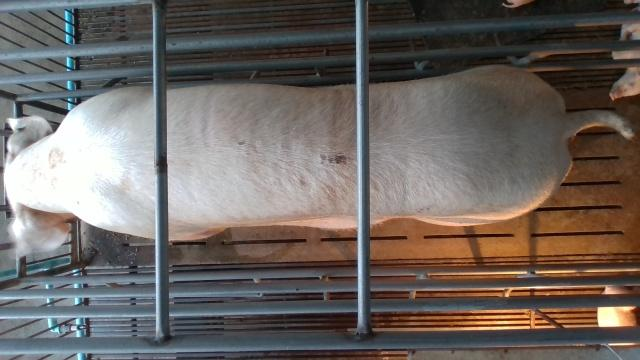piglet: (608, 7, 640, 103), (596, 285, 640, 346)
sow-stand-feed: (4, 65, 634, 260)
